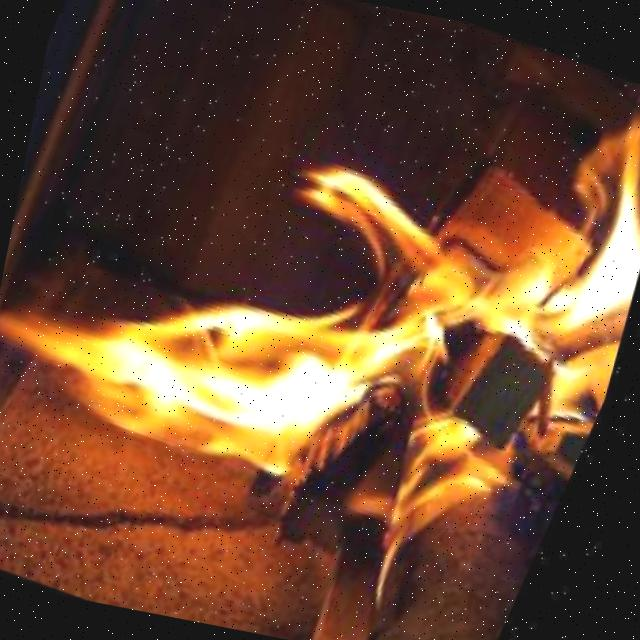fire: (0, 248, 636, 559), (277, 135, 558, 346), (524, 95, 640, 362)
